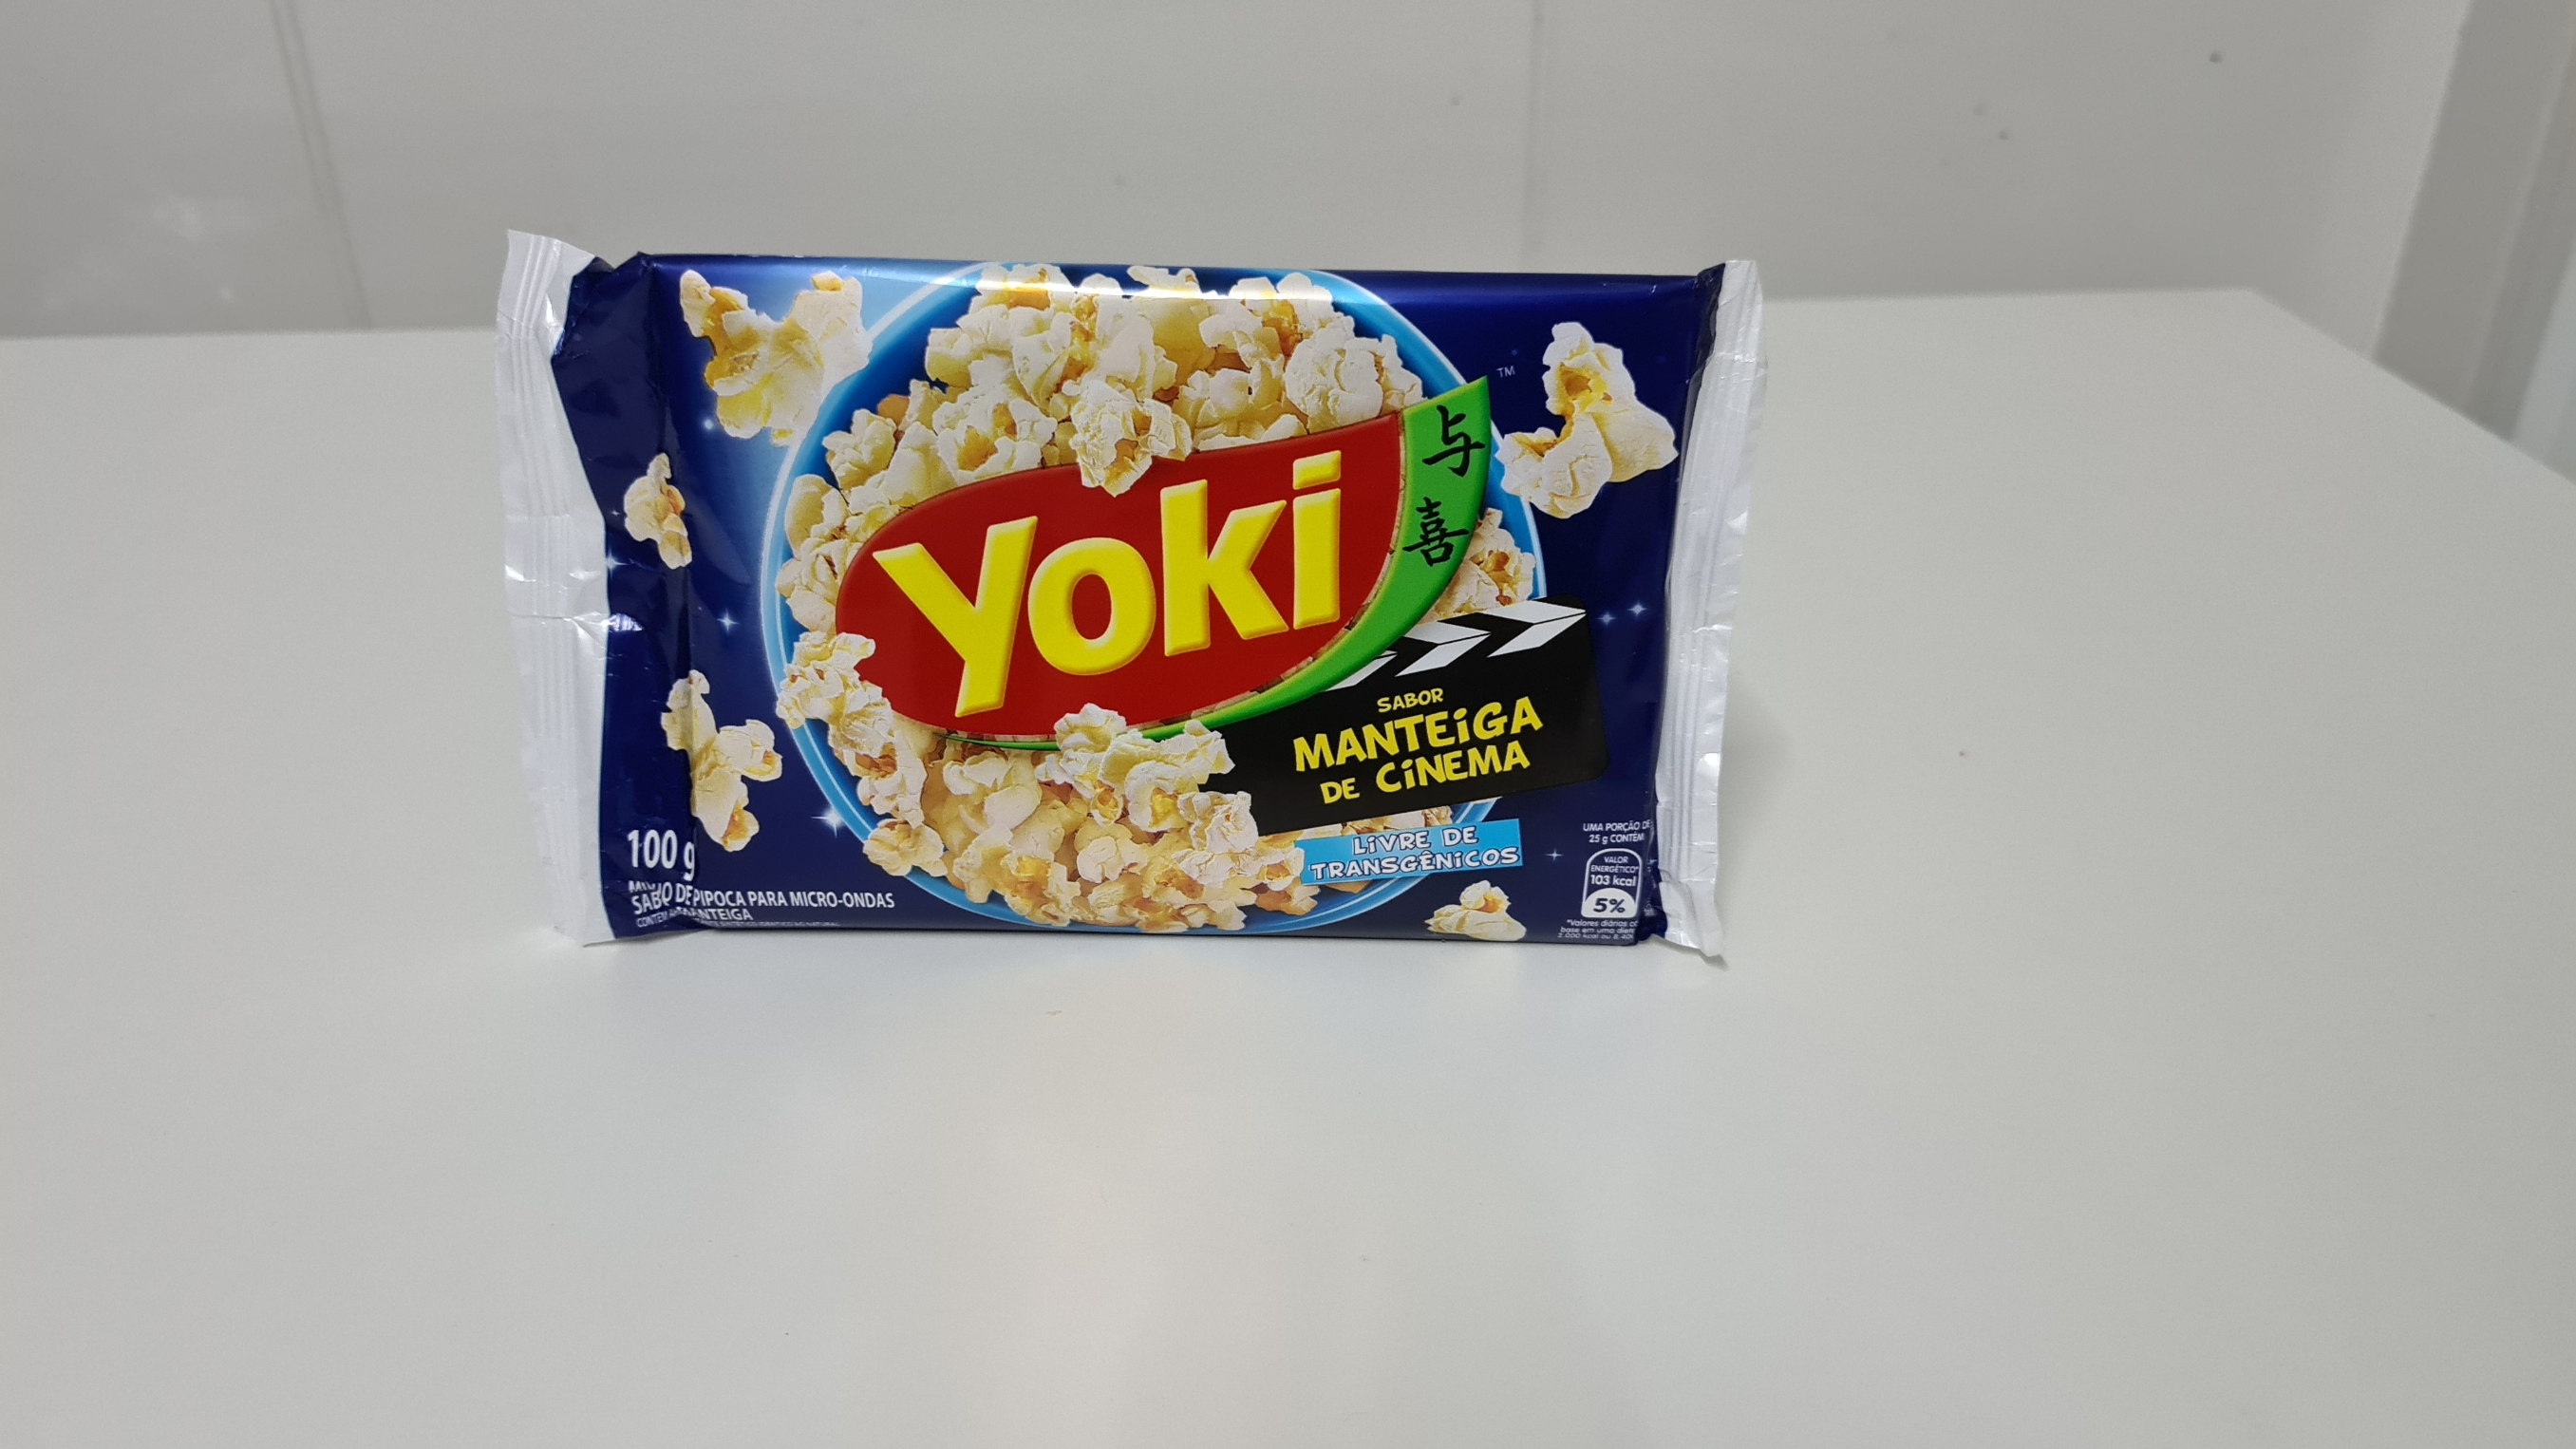Popcorn: (480, 216, 1758, 978)
